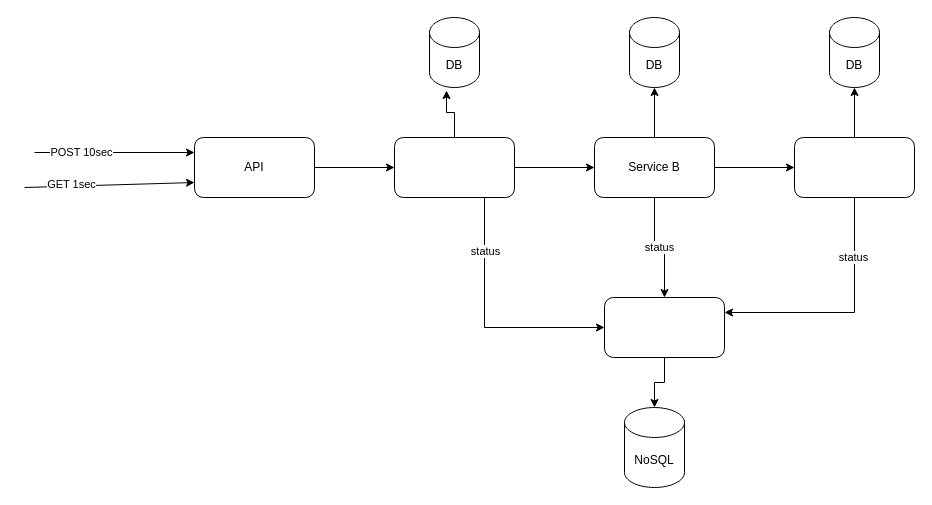
Image size: 932x505. Some labels were removed from this diagram. The centre of each missing label's shape, as x and y in pixels:
Kafka Events: the point at 664,327
Service A: the point at 454,167
Service C: the point at 854,167
